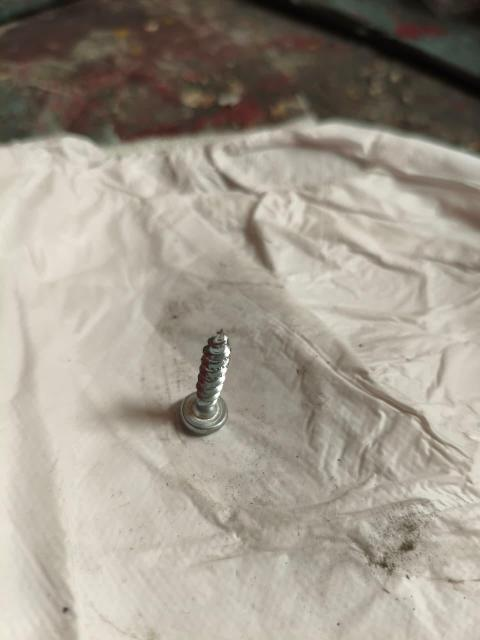Metal: (178, 327, 242, 442)
